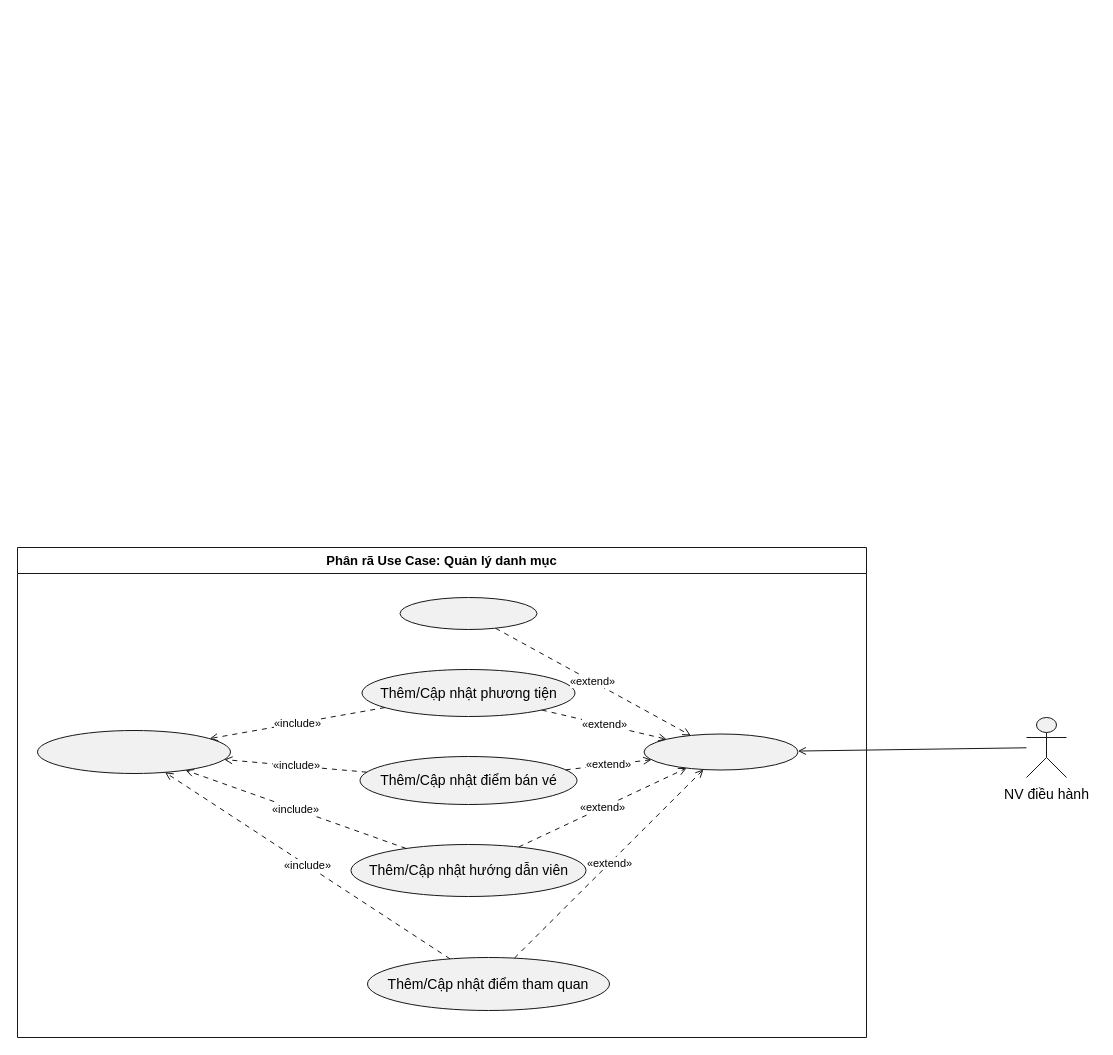
The diagram is 1113 pixels wide and 1055 high, and some of its shapes have lost their labels. Each missing label, with the centre of its shape:
Kiểm tra dữ liệu đầu vào: pixel 133 752
Quản lý danh mục: pixel 720 751
Xem danh mục: pixel 468 613
